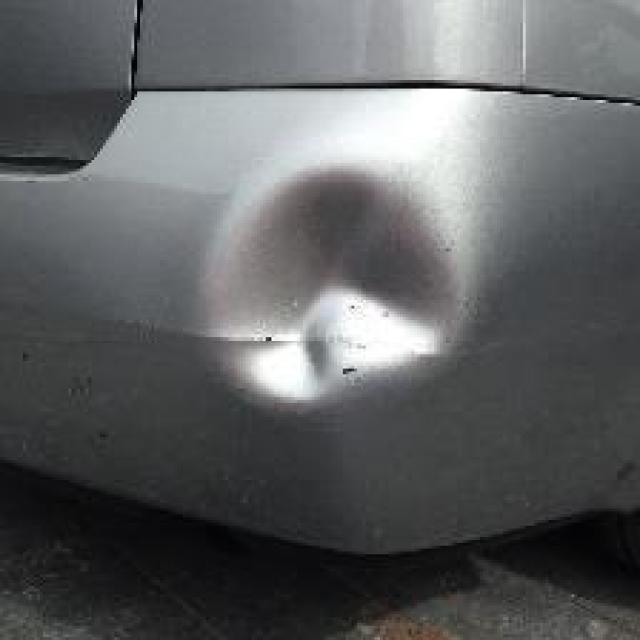damaged: (194, 157, 472, 420)
